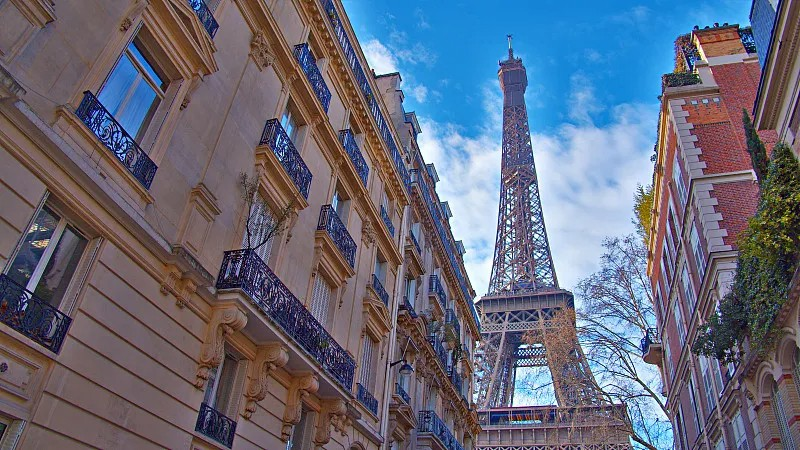Eiffel: (468, 33, 634, 450)
